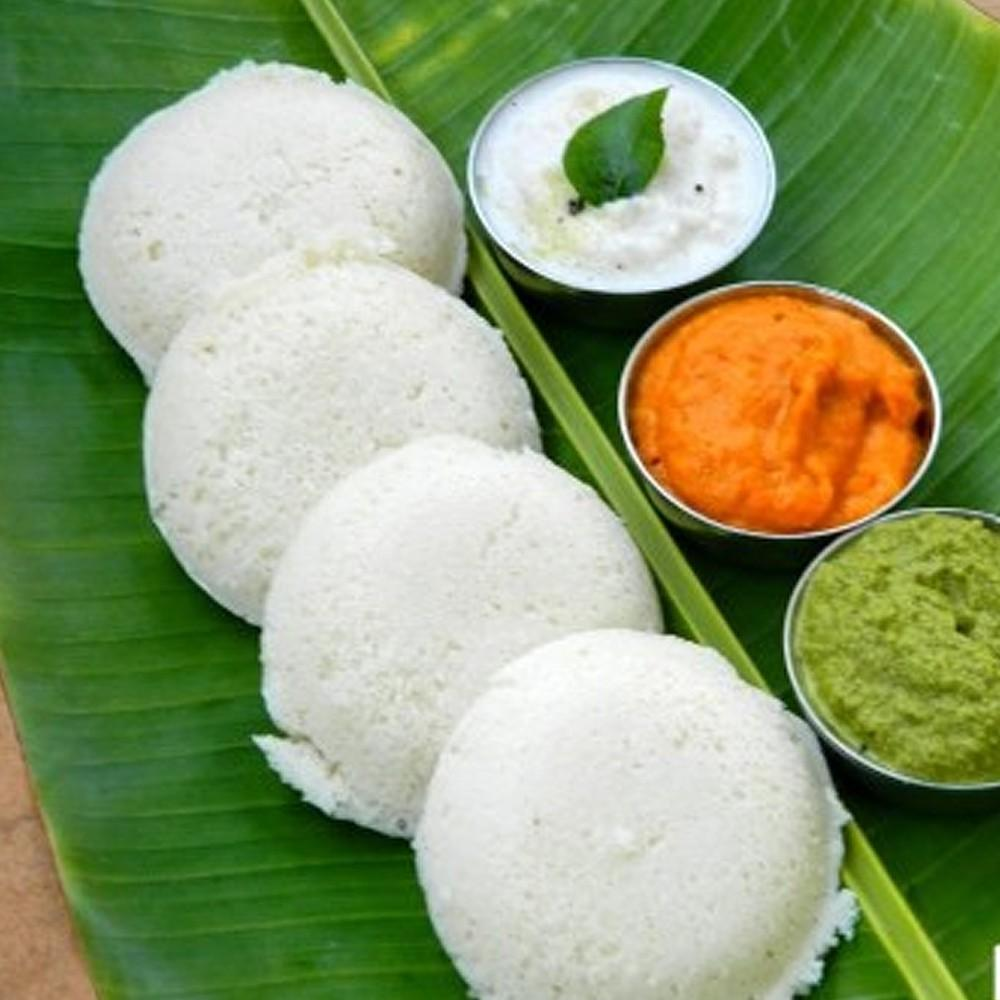CoconutChutney: (472, 54, 773, 292)
GreenChutney: (796, 514, 1000, 782)
Idli: (417, 626, 853, 1000), (254, 435, 644, 830), (142, 255, 535, 624), (80, 52, 465, 385)
